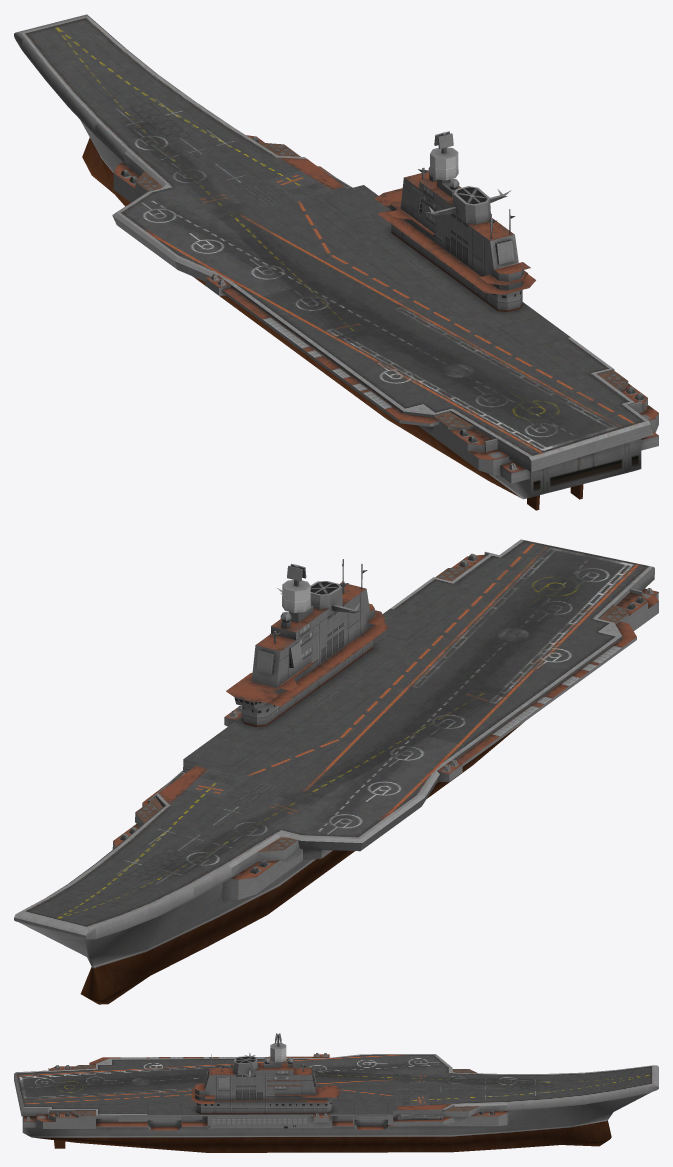
Rendered from ship9.glb.
The picture shows the model from 3 angles, top to bottom: view 1: azimuth 30°, elevation 25°; view 2: azimuth 150°, elevation 25°; view 3: azimuth 270°, elevation 25°; orthographic projection. The views are drawn at different scales.
Visible parts, largest first — view 1: carrier; view 2: carrier; view 3: carrier.
Part boxes in pixels (box(x1,y1,x2,y2)): carrier: box(14, 14, 658, 510); carrier: box(14, 539, 658, 1004); carrier: box(14, 1033, 658, 1152).
Size of the model in its own units: 78.16 by 68.24 by 302.
Materials: 5 (4 with a texture image).
